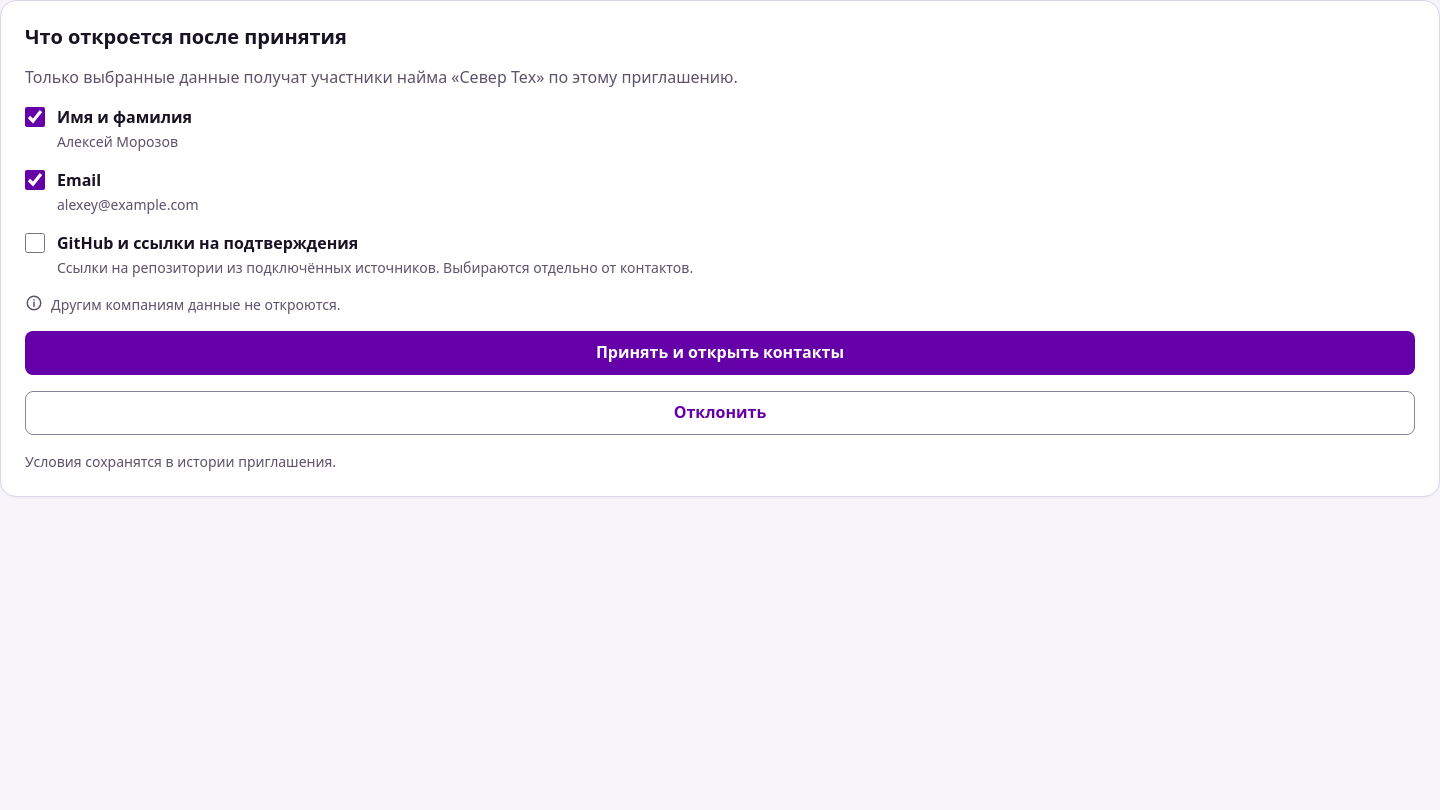
Test case: invitation decision › requires at least one disclosed field before acceptance
Click the checkbox labelled "Имя и фамилия Алексей Морозов". click: (35, 117)
box: [25,107,45,127]
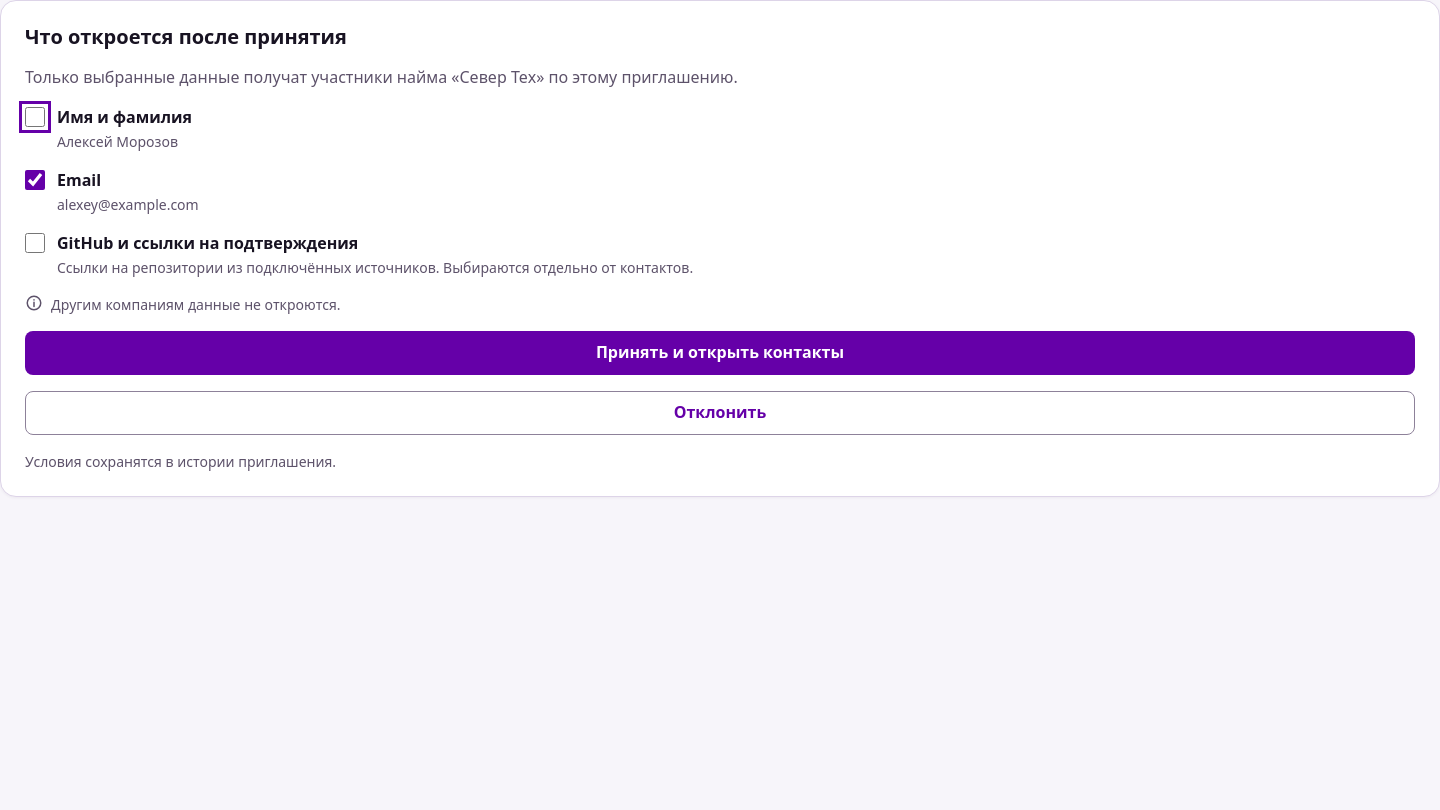
Click the checkbox labelled "Email alexey@example.com". click: (35, 180)
box: [25,170,45,190]
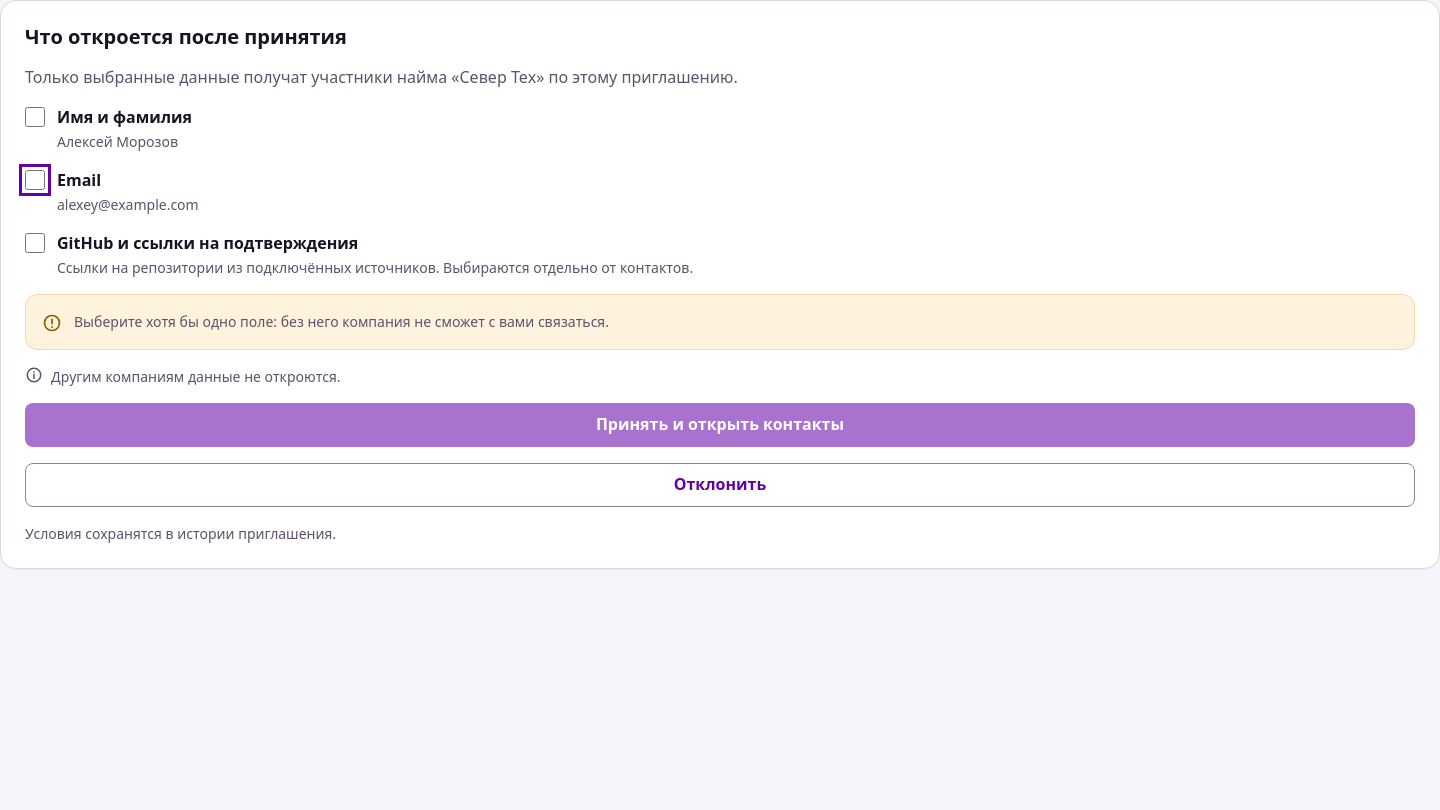
Result: the message shows "хотя бы одно поле" at [74,312,609,331]
Result: the button "Принять и открыть контакты" is disabled at [25,403,1415,447]
